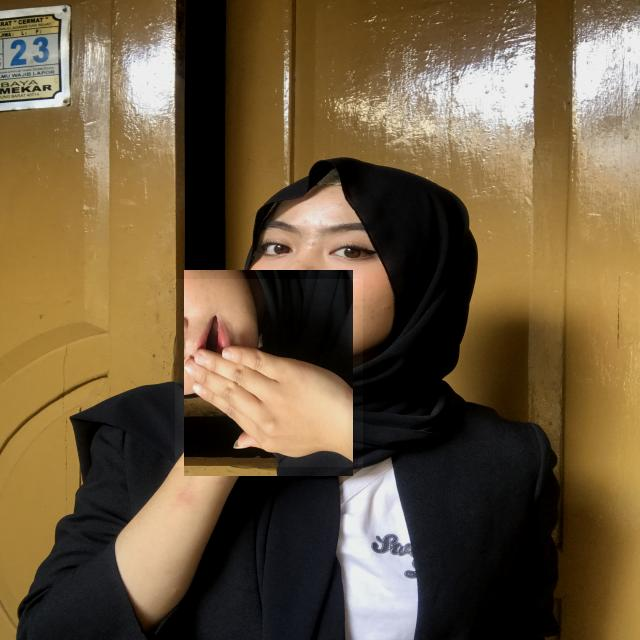ngantuk: (175, 279, 363, 467)
